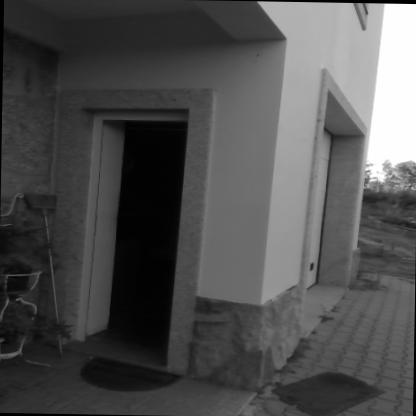open: (62, 101, 215, 374)
